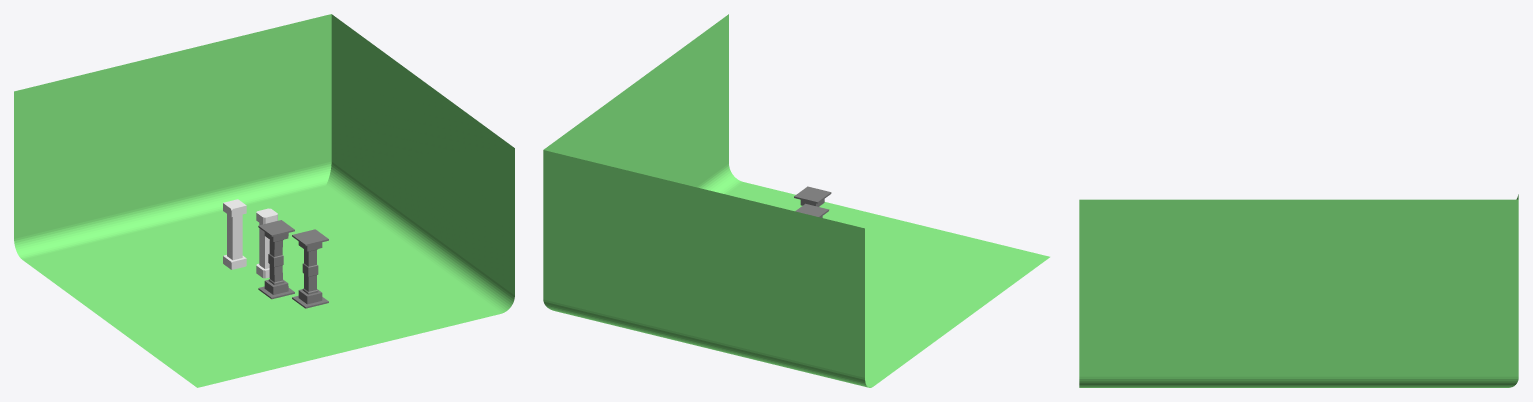
File: pilares2.fbx
The picture shows the model from 3 angles, left to right: view 1: azimuth 30°, elevation 25°; view 2: azimuth 150°, elevation 25°; view 3: azimuth 270°, elevation 25°; orthographic projection. The views are drawn at different scales.
Parts seen in each view (by area): view 1: Plane, Plano, Plano.001, Plano.002; view 2: Plane, Plano.002; view 3: Plane.
Part boxes in pixels (x1,y1,x2,y2): Plane: (14, 14, 514, 387); Plano: (223, 199, 277, 278); Plano.001: (258, 220, 294, 299); Plano.002: (292, 229, 328, 308); Plane: (543, 14, 1049, 387); Plano.002: (794, 186, 831, 206); Plane: (1079, 194, 1518, 387).
Size of the model in its own units: 1257 by 614 by 1257.
